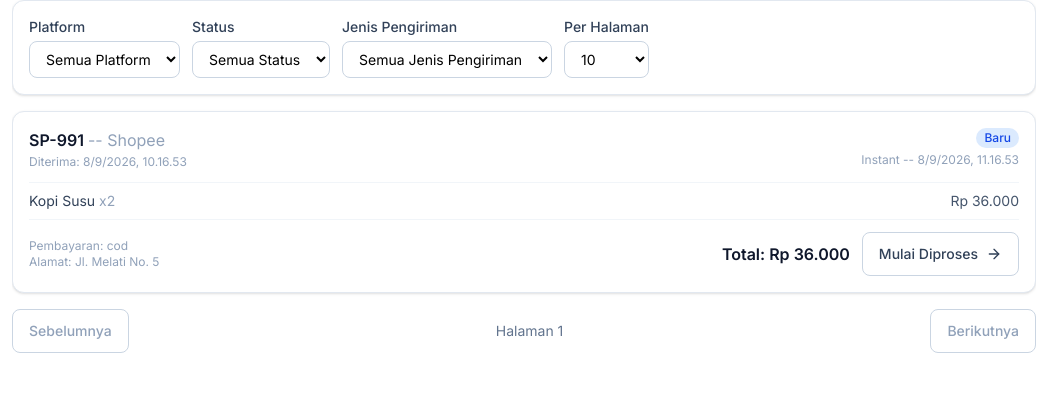
Test: OrdersPage › Update Status gagal -- inline error, bukan window.alert (Task 6) › error non-ApiRequestError -- fallback Bahasa Indonesia
What coordinates should you click on to do the following:
click the button "Mulai Diproses"
I would click on:
 (940, 254)
Its box is [862, 232, 1019, 276].
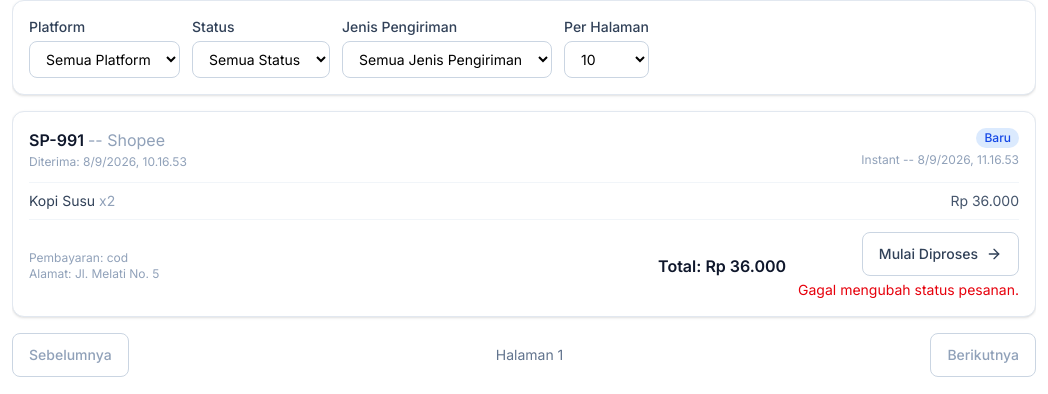
expect the text "Gagal mengubah status pesanan." is shown: met, box [798, 280, 1019, 300]
